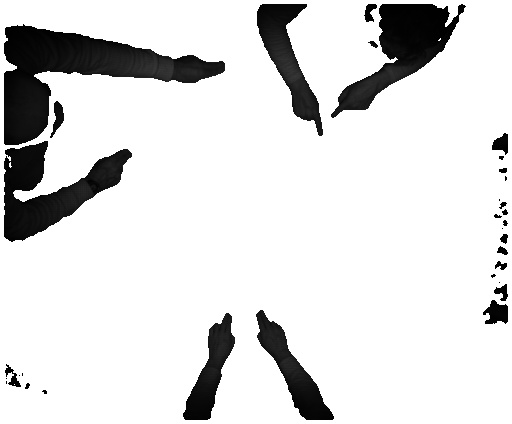hand: (256, 304, 302, 356), (177, 48, 231, 87), (95, 144, 135, 192), (288, 88, 328, 135), (331, 81, 377, 119), (208, 312, 239, 360)
